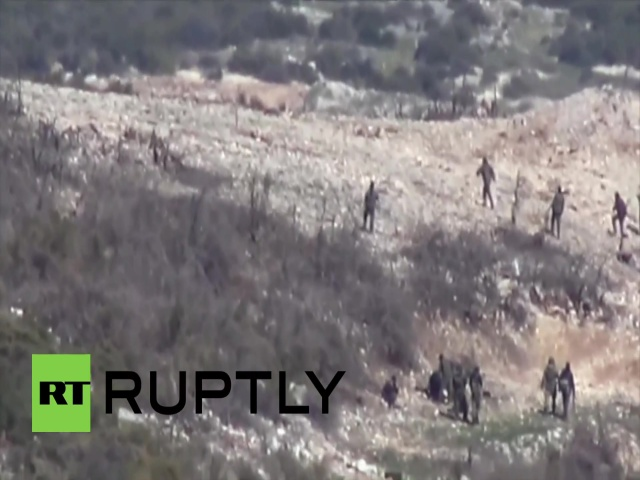person: (538, 357, 560, 415), (545, 186, 567, 240), (475, 156, 496, 212), (610, 190, 631, 240), (434, 349, 454, 400), (468, 365, 484, 426), (361, 181, 380, 232), (451, 364, 467, 421), (560, 360, 575, 416)
